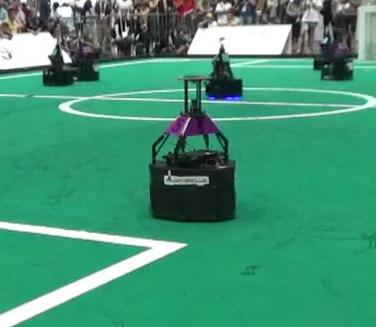robot: (147, 72, 240, 223), (203, 33, 247, 101), (37, 32, 78, 88)
